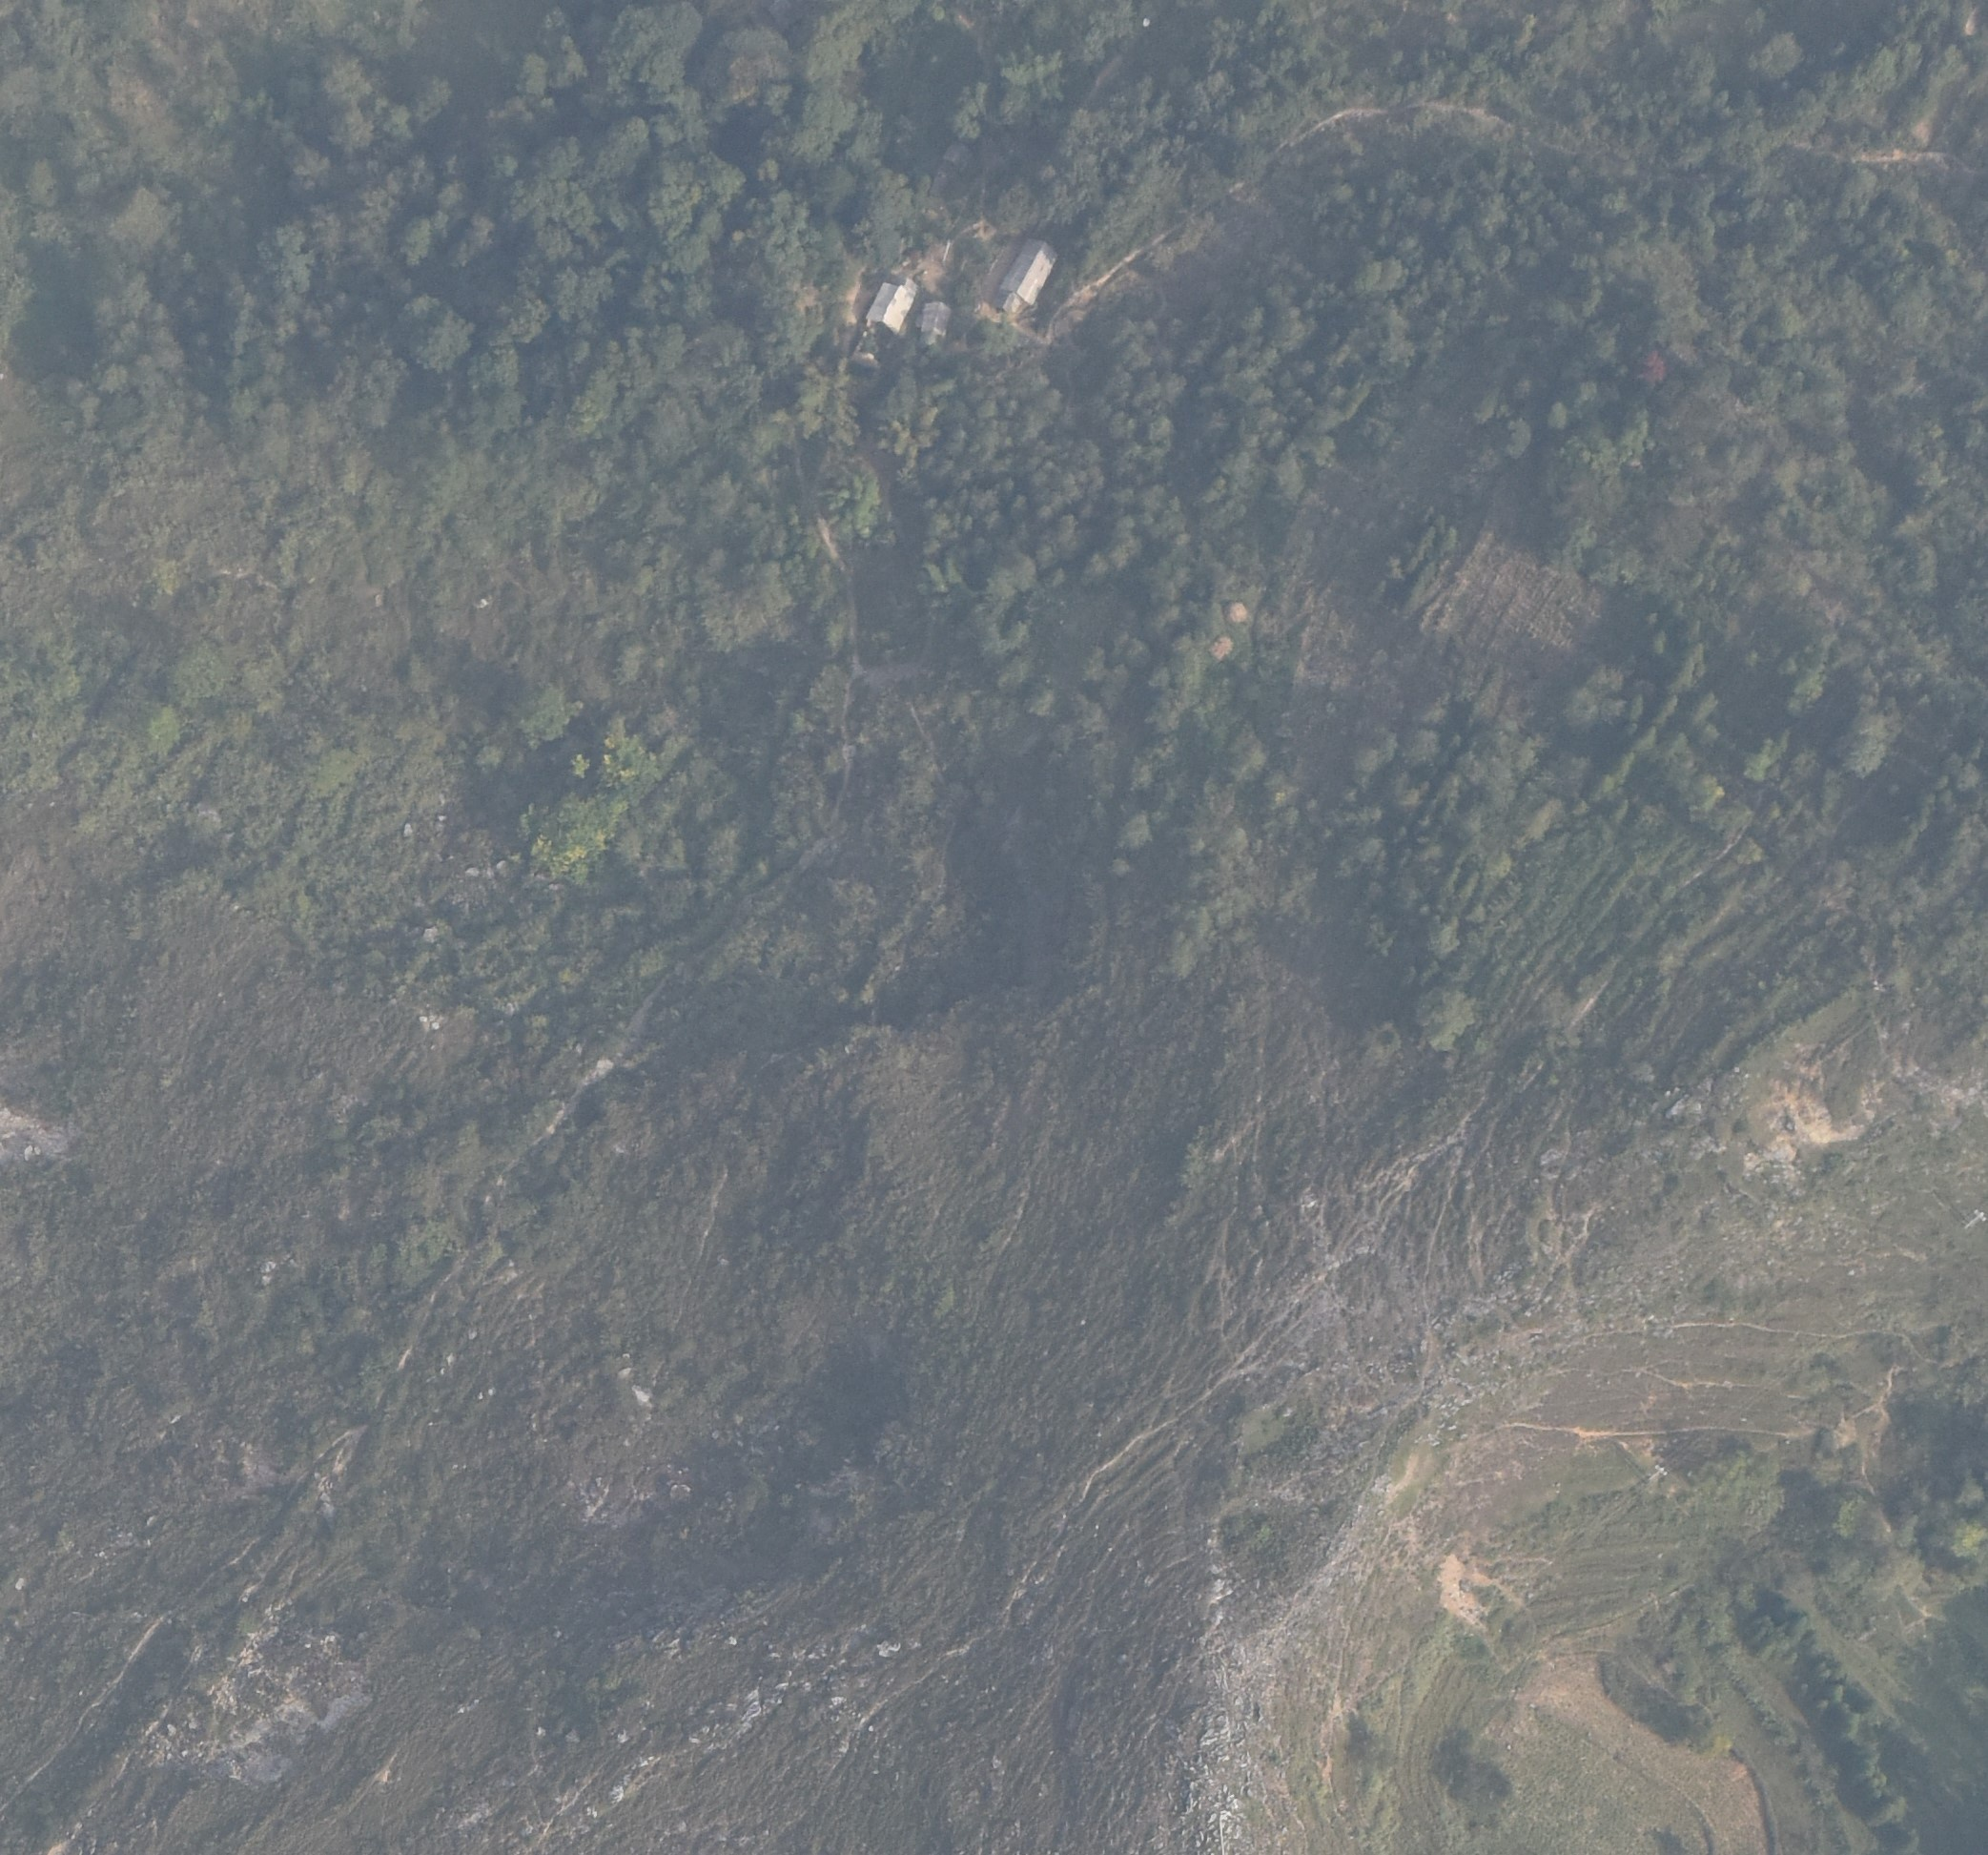building: (995, 237, 1058, 314), (864, 281, 913, 333), (921, 301, 950, 340)
